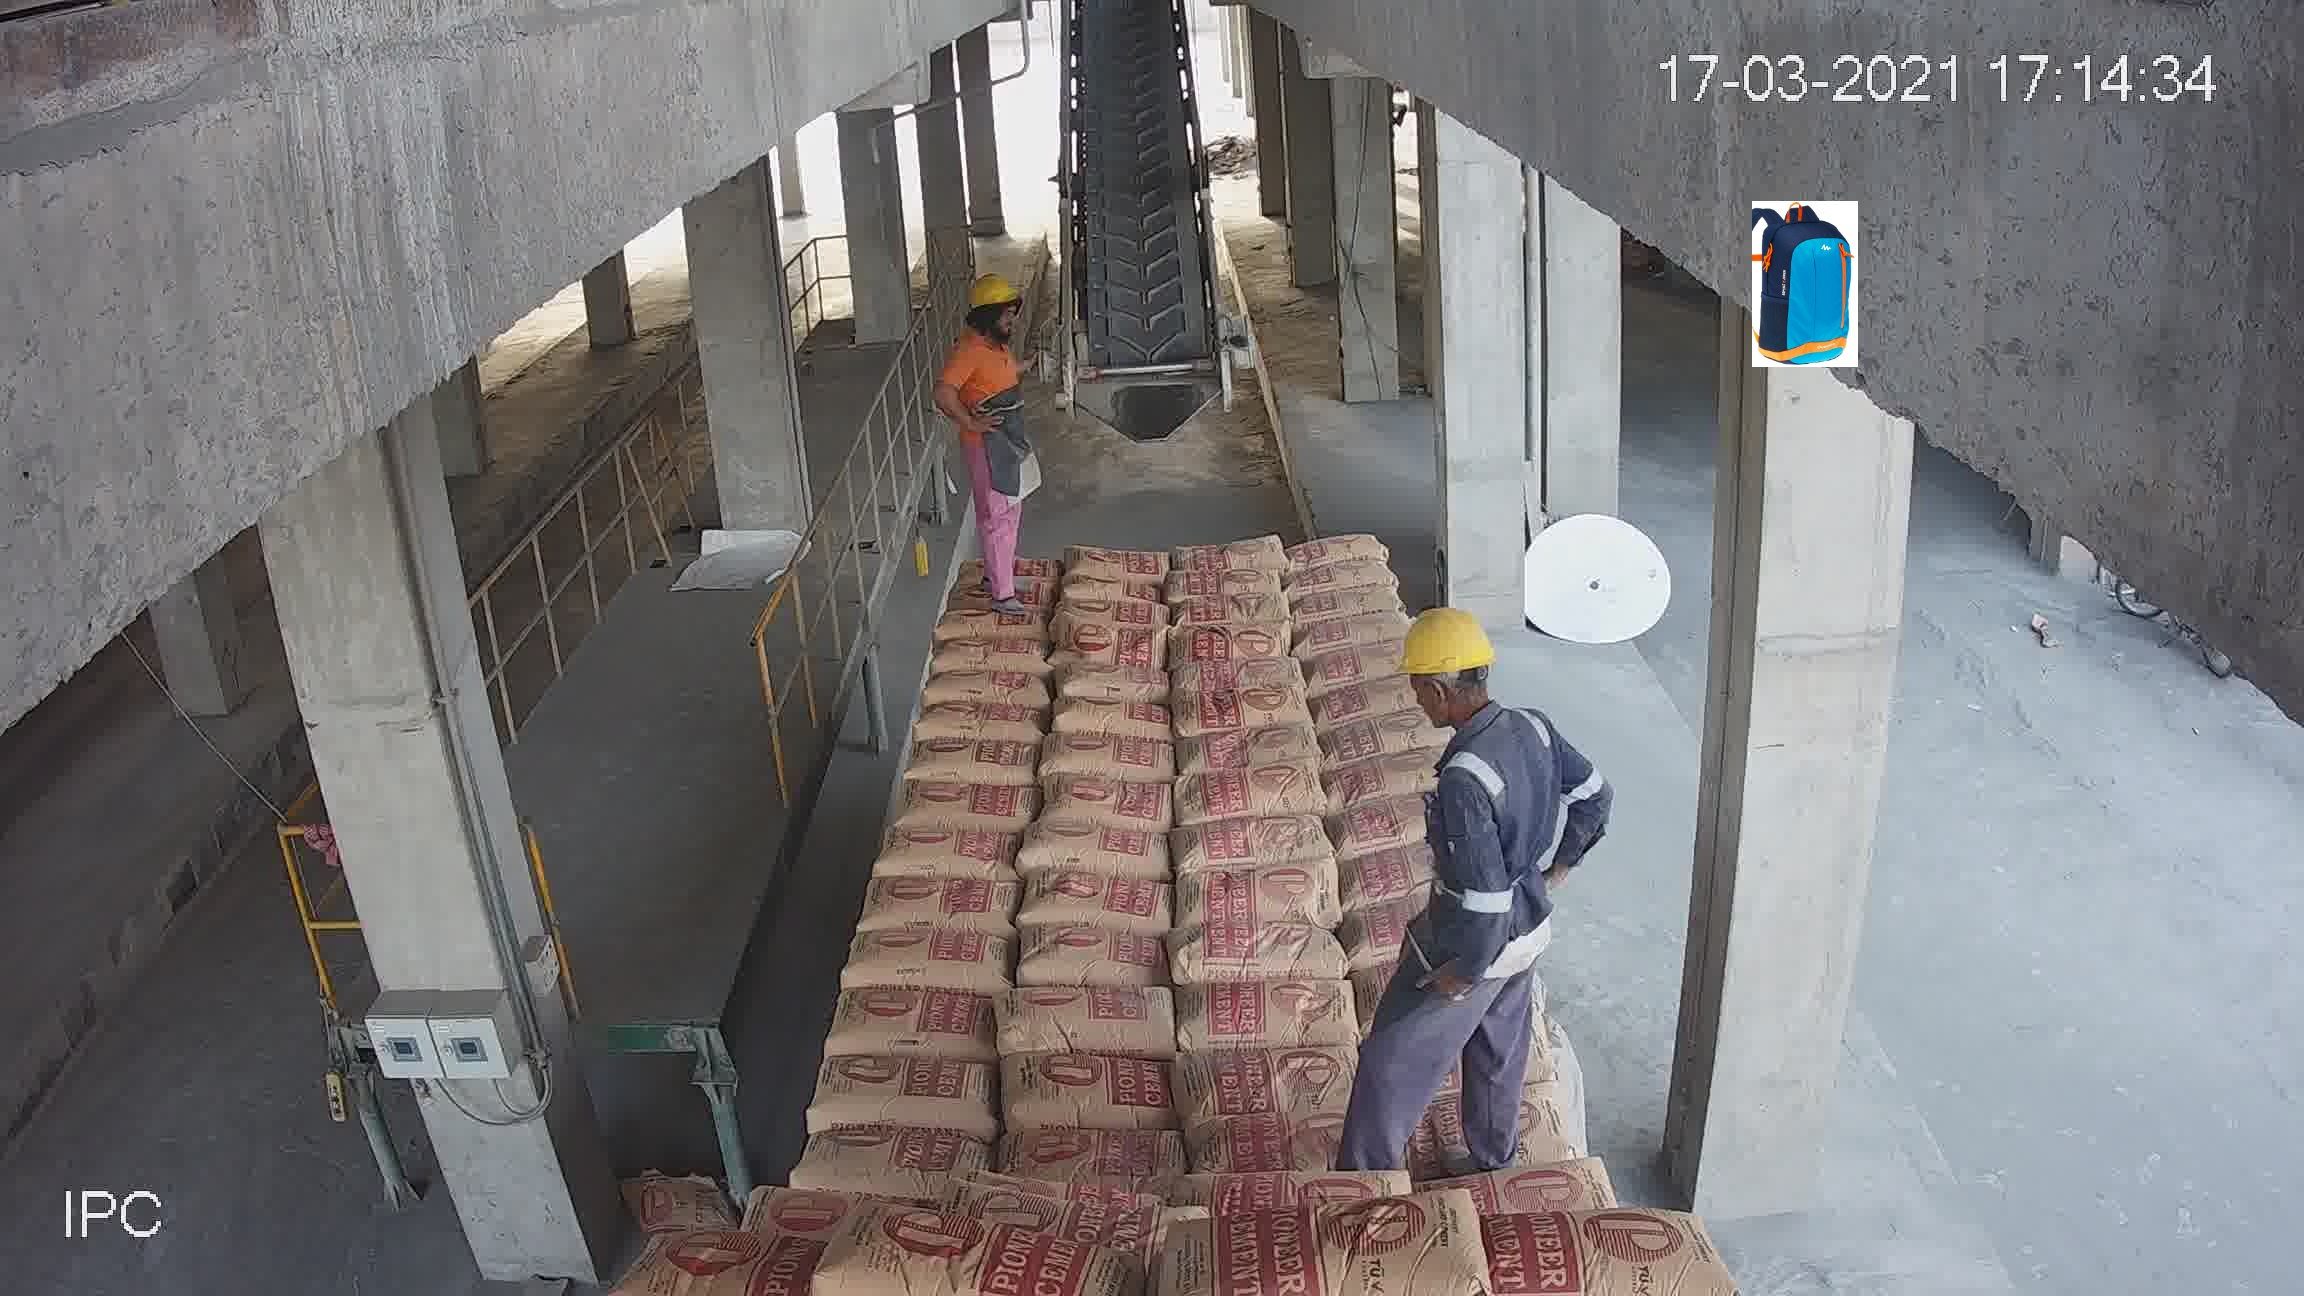bag_h: (1173, 1190, 1468, 1296), (809, 1218, 1124, 1294), (1462, 1196, 1706, 1290), (1378, 1078, 1582, 1184), (1166, 1048, 1366, 1135), (804, 1055, 1003, 1135), (608, 1226, 817, 1294), (999, 984, 1185, 1060), (829, 981, 1006, 1060), (1179, 986, 1362, 1059), (1005, 1059, 1177, 1135), (992, 1122, 1193, 1187), (1173, 923, 1359, 992), (783, 1127, 967, 1192), (856, 873, 1022, 945), (839, 927, 1014, 994), (1176, 864, 1336, 937), (1182, 758, 1332, 826), (1024, 817, 1166, 885), (1014, 930, 1176, 989), (1022, 877, 1180, 935), (869, 828, 1022, 885), (1182, 815, 1321, 877), (892, 782, 1040, 837), (1048, 774, 1180, 832), (1166, 650, 1312, 703), (1176, 685, 1320, 734), (1313, 752, 1437, 809), (907, 737, 1041, 790), (1188, 725, 1328, 774), (910, 699, 1051, 747), (1324, 707, 1437, 763), (1048, 741, 1176, 788), (908, 663, 1044, 707), (1063, 611, 1163, 669), (1060, 658, 1171, 707), (1051, 699, 1161, 745), (1171, 620, 1290, 663), (927, 638, 1059, 676), (1179, 540, 1296, 579), (1302, 641, 1408, 684), (1302, 617, 1416, 657), (1171, 590, 1294, 627), (1294, 581, 1402, 622), (1334, 802, 1412, 859), (1337, 851, 1415, 908), (1283, 522, 1385, 565), (1168, 565, 1287, 601), (1057, 598, 1174, 633), (1067, 541, 1166, 581), (1312, 684, 1400, 726), (1052, 574, 1165, 608), (934, 601, 1052, 631), (1299, 562, 1397, 593)
belt: (1051, 6, 1226, 408)
